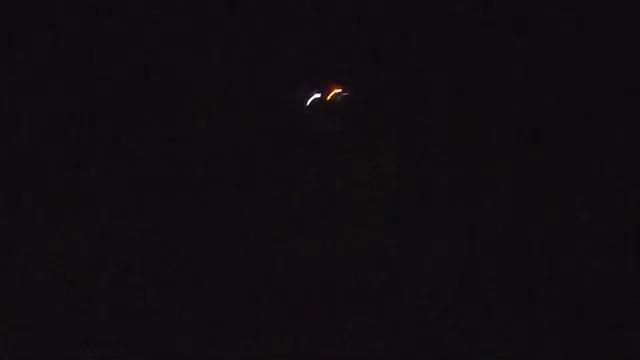Plane: (281, 79, 372, 113)
